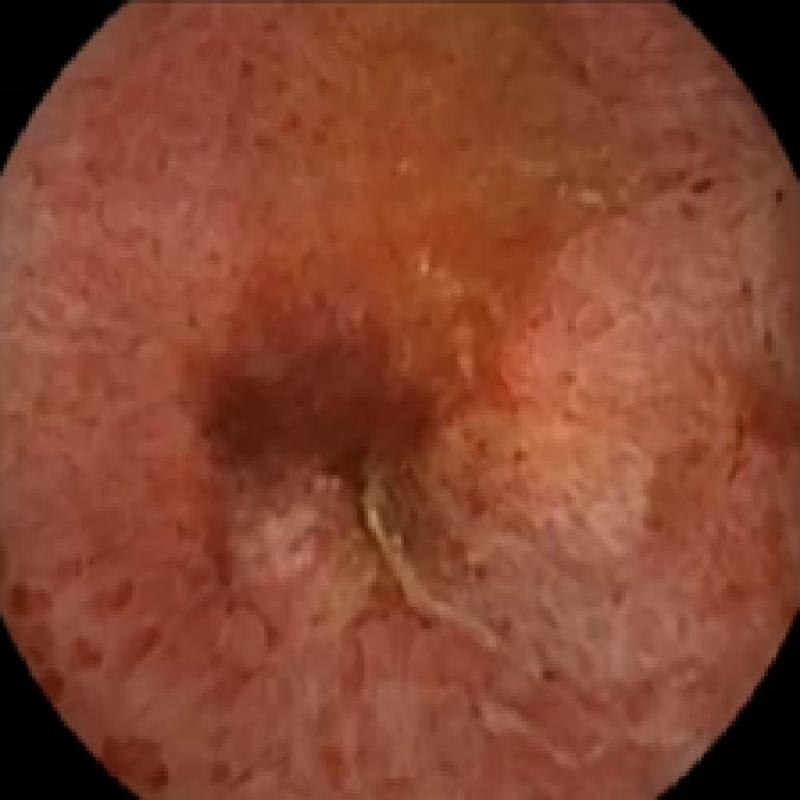bleeding: (25, 236, 611, 796), (701, 358, 800, 480)
